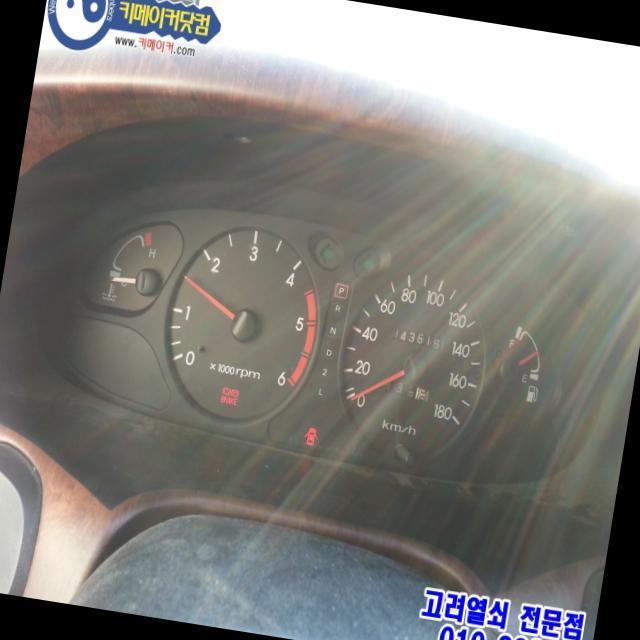Doors: (303, 425, 319, 446)
